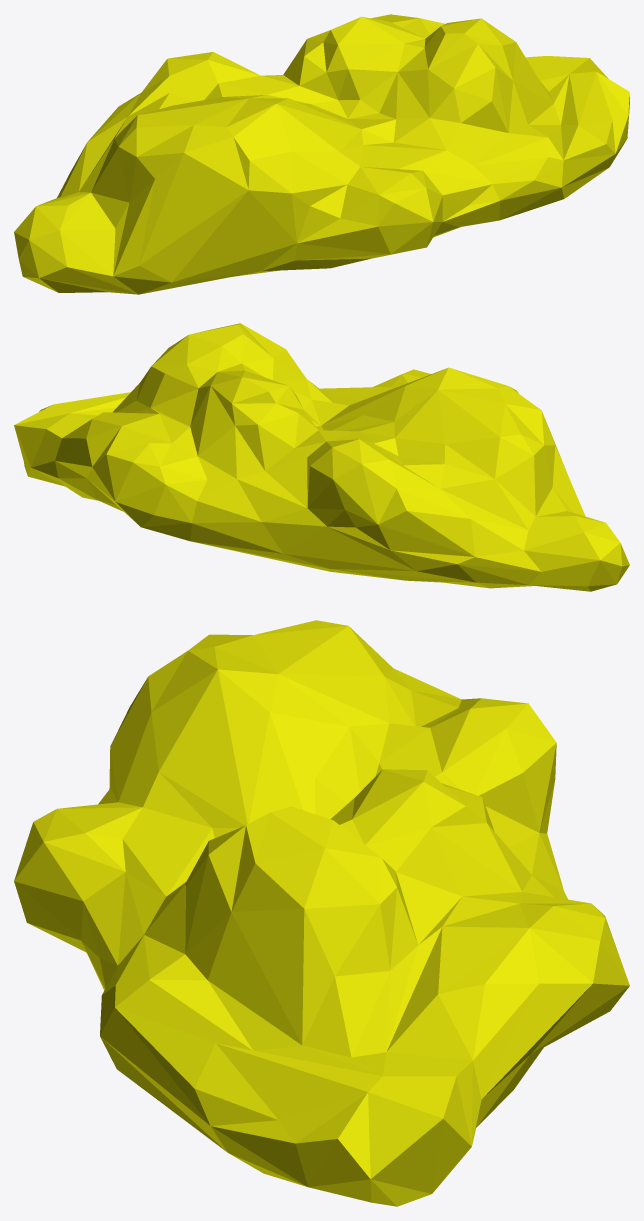
Rendered from SM_Generic_Cloud_03-optimized.glb.
3 renders of one model, top to bottom at view 1: azimuth 30°, elevation 25°; view 2: azimuth 150°, elevation 25°; view 3: azimuth 270°, elevation 25°, orthographic. The views are drawn at different scales.
Visible parts, largest first — view 1: SM_Generic_Cloud_03; view 2: SM_Generic_Cloud_03; view 3: SM_Generic_Cloud_03.
Boxes of the visible parts, x1,y1,x2,y2 form: SM_Generic_Cloud_03: (14, 14, 629, 294); SM_Generic_Cloud_03: (14, 323, 629, 591); SM_Generic_Cloud_03: (14, 620, 629, 1206).
Bounding box in the file's own units: 7.03 × 1.98 × 3.89.
1 material, 1 textured.
